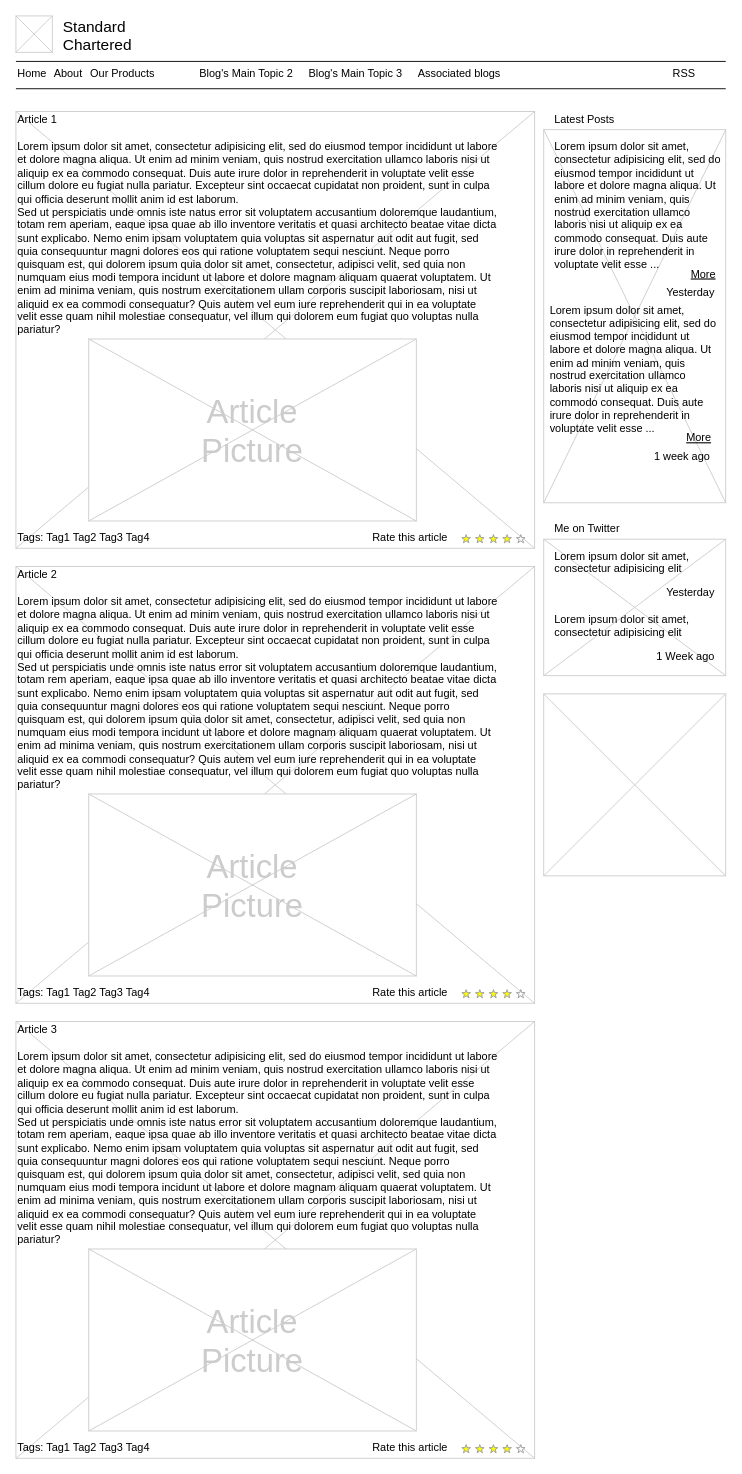
The diagram is 742 pixels wide and 1474 high, and some of its shapes have lost their labels. Each missing label, with the box of its shape:
Blog Logo: (15, 15, 52, 52)
Tag Cloud: (543, 693, 726, 876)
